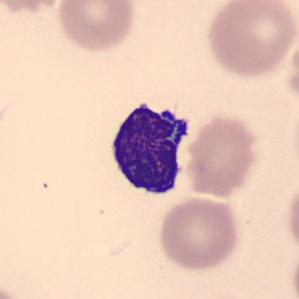Lymphocyte: (100, 94, 198, 202)
RBC: (202, 0, 296, 79), (155, 194, 242, 272), (183, 112, 260, 199), (54, 0, 138, 54), (285, 178, 299, 260), (0, 0, 67, 14)
